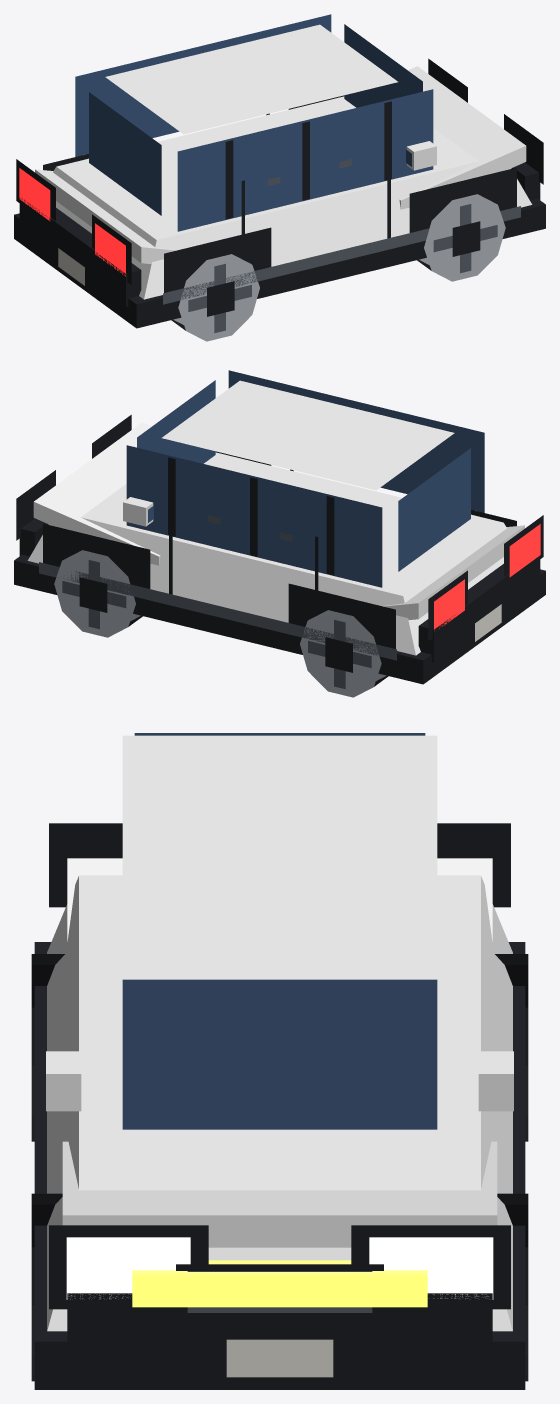
Rendered from car_electric.glb.
3 renders of one model, top to bottom at view 1: azimuth 30°, elevation 25°; view 2: azimuth 150°, elevation 25°; view 3: azimuth 270°, elevation 25°, orthographic. The views are drawn at different scales.
Parts seen in each view (by area): view 1: car_electric; view 2: car_electric; view 3: car_electric.
Boxes of the visible parts, box(x1,y1,x2,y2) form: car_electric: box(14, 14, 545, 341); car_electric: box(14, 370, 545, 697); car_electric: box(31, 733, 528, 1389).
Bounding box in the file's own units: 0.3288 × 0.1423 × 0.1724.
